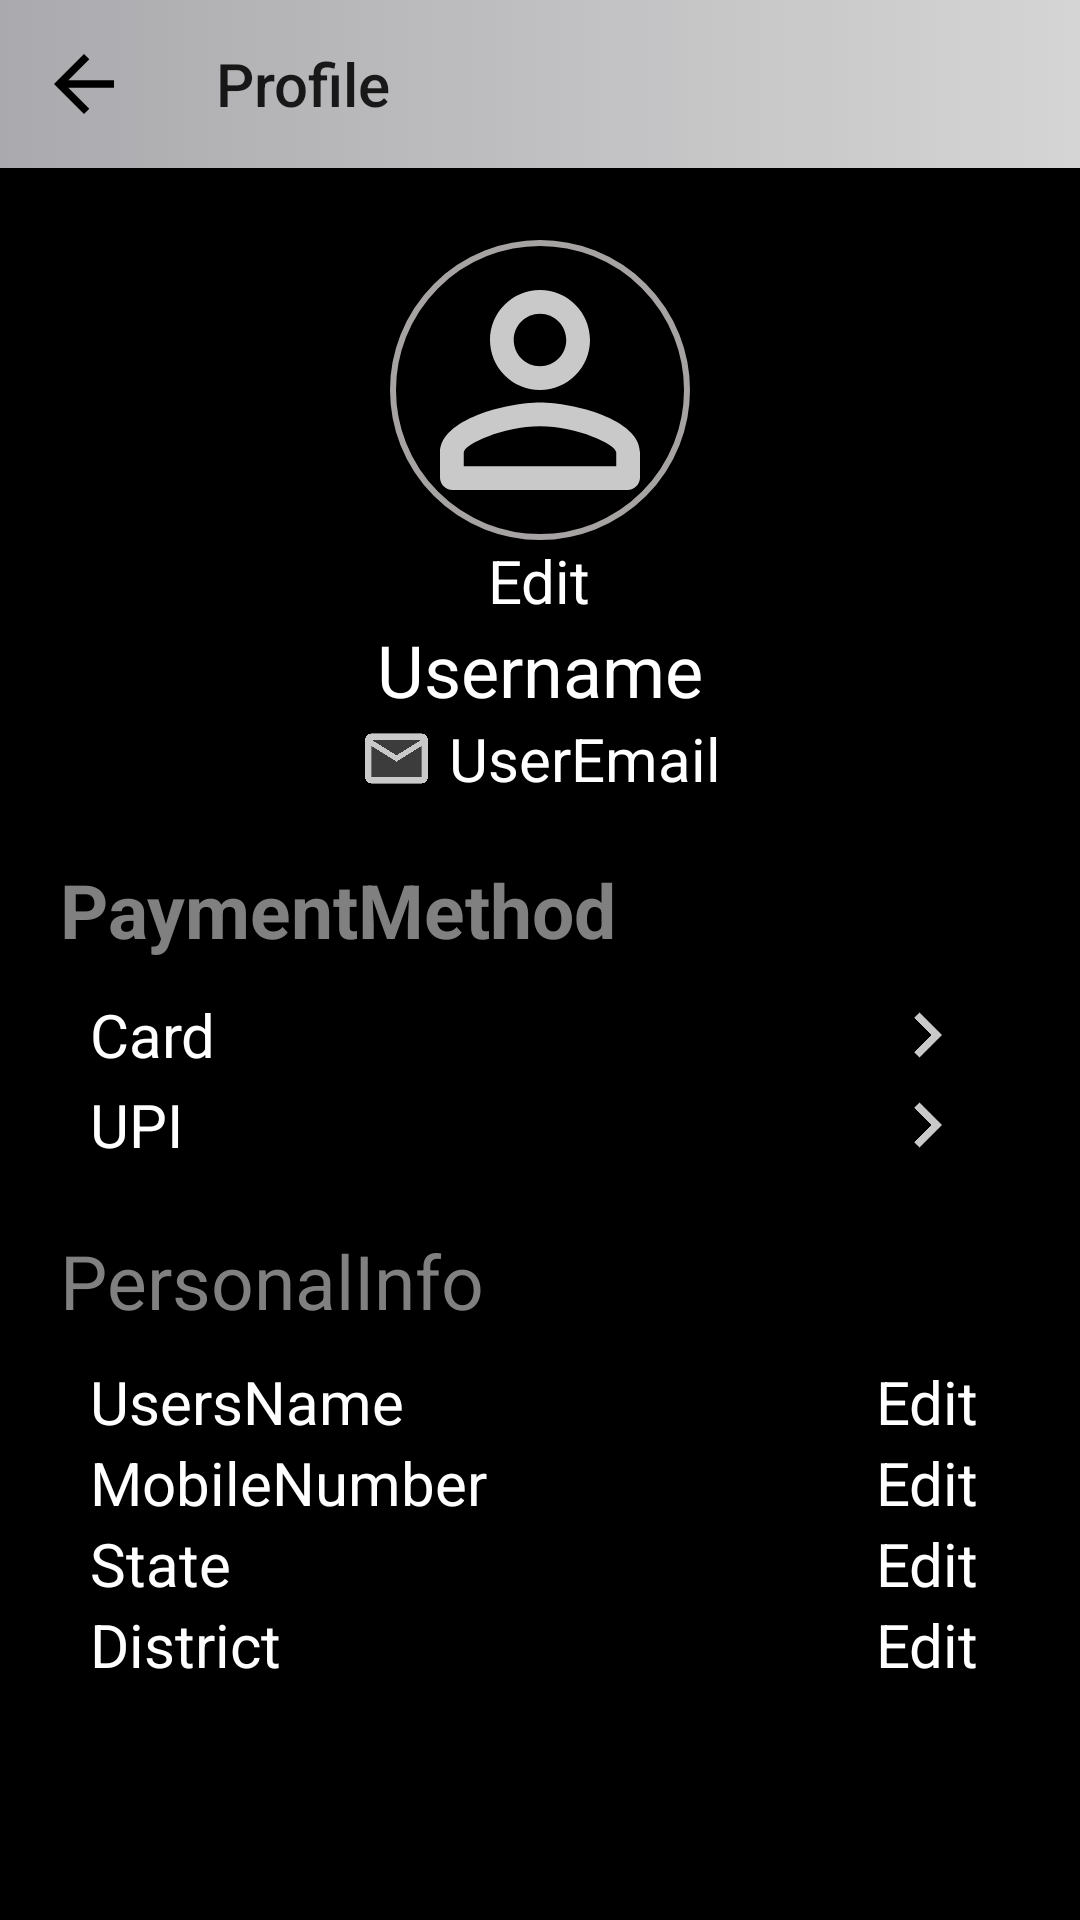

Named icons in this screenshot (1080w x 1920h) and their bounding boxes, Rect(x1, y1, x2, y2):
keyboard arrow right: Rect(914, 1012, 942, 1058), Rect(914, 1102, 942, 1148)
person: Rect(390, 240, 690, 540)
